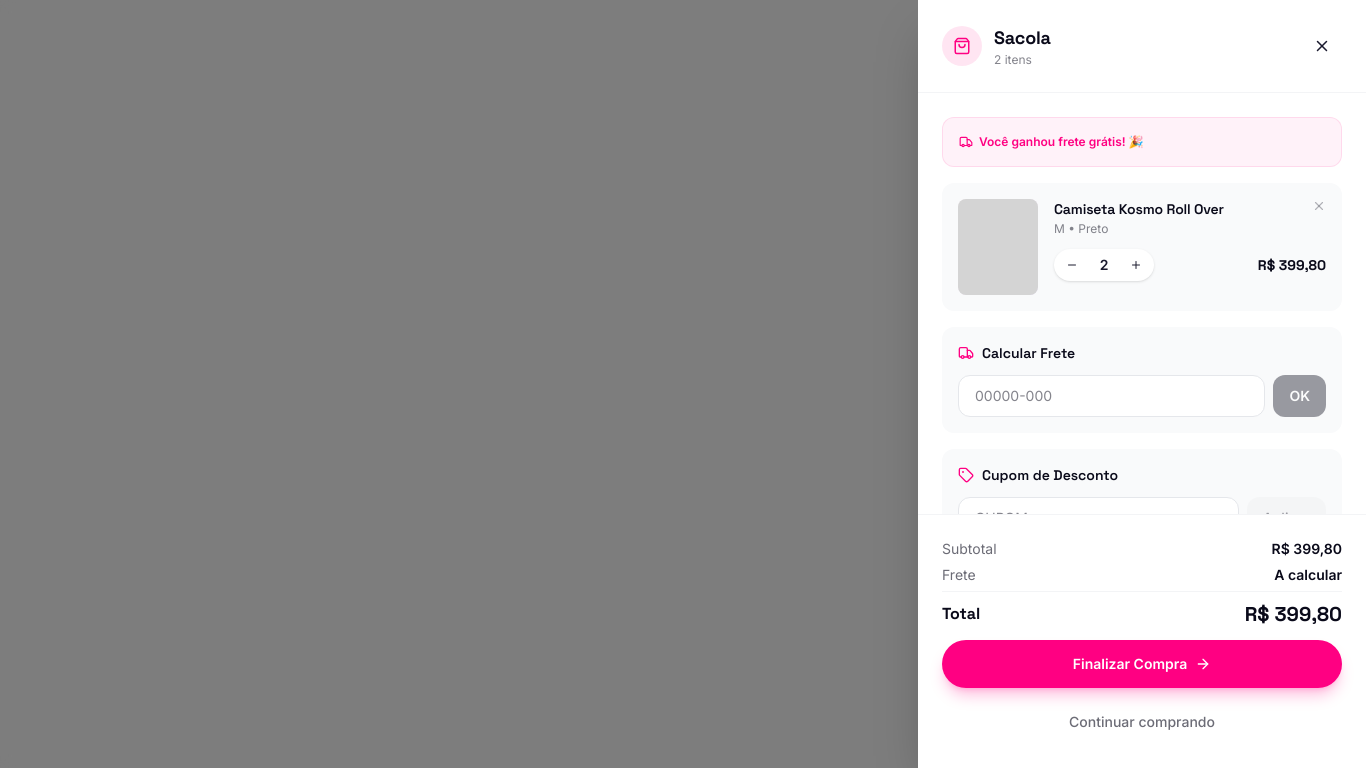
Scenario: CartDrawer (Componente) › incrementa e decrementa a quantidade do item
Click the button named "Aumentar quantidade de Camiseta Kosmo Roll Over" at (1136, 265), box [1122,251,1150,279]
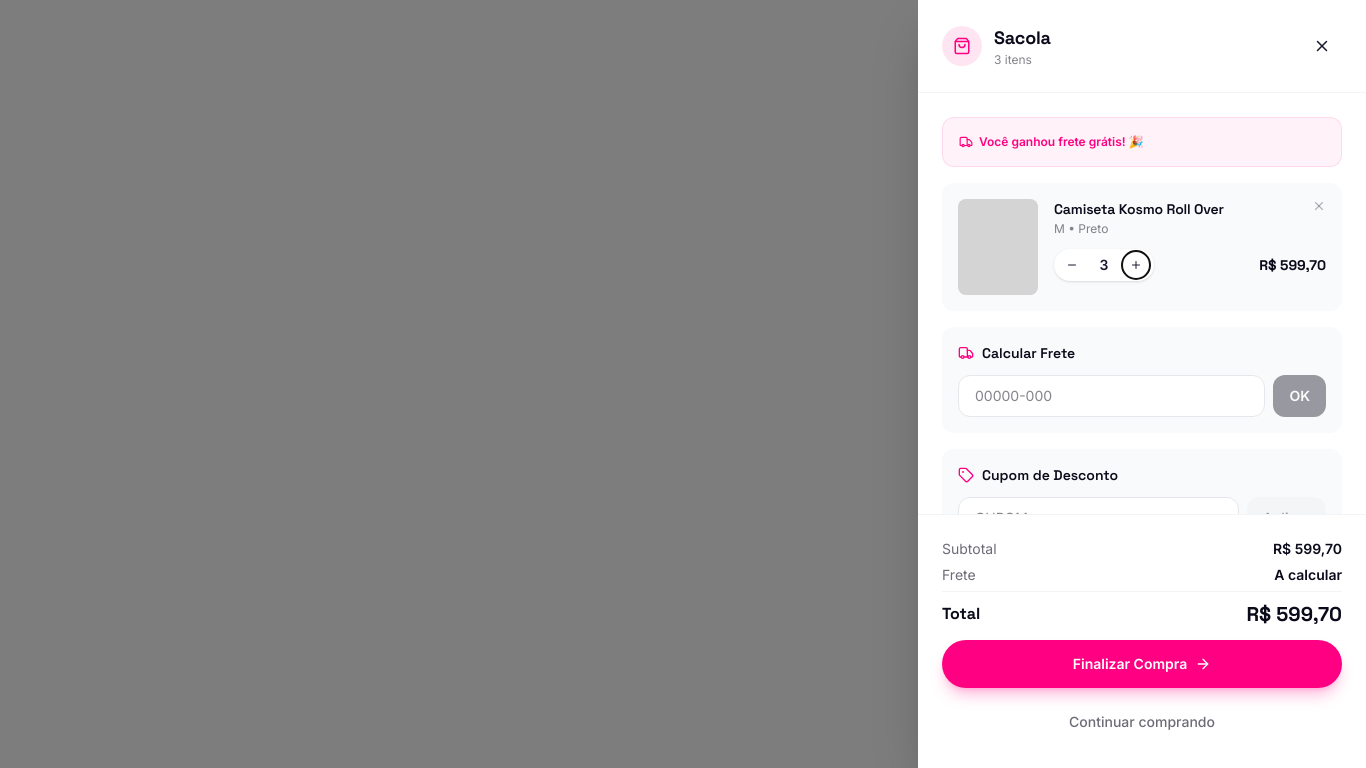
Expected: the text "3 itens" is shown, [994,52,1032,67]
Expected: the text "R$ 599,70" below "Preto" is shown, [1259,256,1326,274]
Click the button named "Diminuir quantidade de Camiseta Kosmo Roll Over" at (1072, 265), box [1058,251,1086,279]
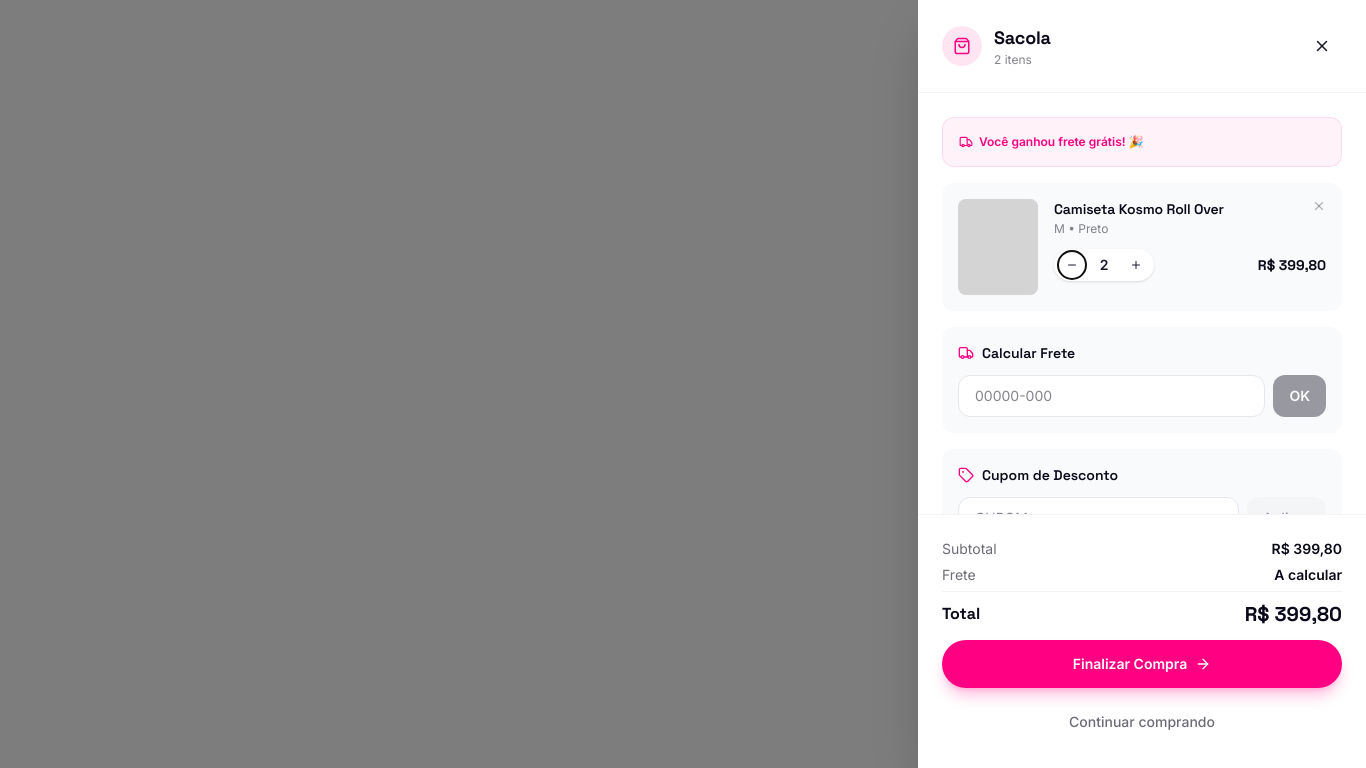
Expected: the text "2 itens" is shown, [994,52,1032,67]
